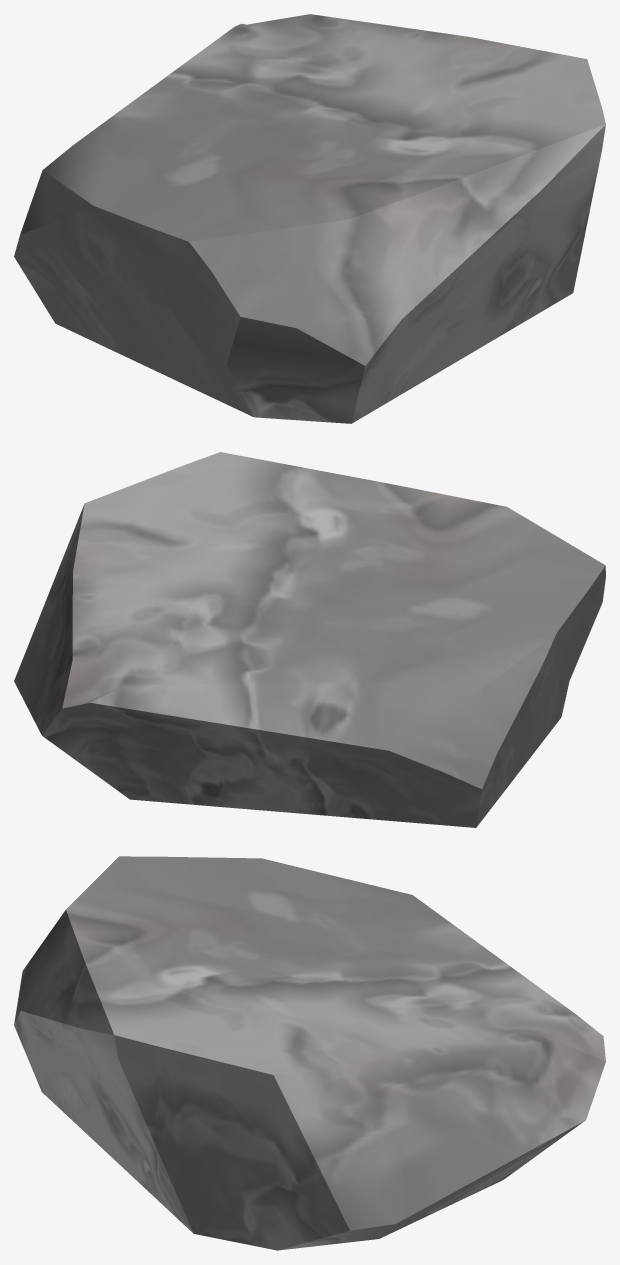
The model's file is pedra_02.fbx.
3 views of the same model, one above another, from view 1: azimuth 30°, elevation 25°; view 2: azimuth 150°, elevation 25°; view 3: azimuth 270°, elevation 25° (orthographic). The views are drawn at different scales.
Parts seen in each view (by area): view 1: Pedra.001; view 2: Pedra.001; view 3: Pedra.001.
Part boxes in pixels (<box>): Pedra.001: <box>14,14,605,423</box>; Pedra.001: <box>14,452,605,827</box>; Pedra.001: <box>14,856,605,1250</box>.
Bounding box in the file's own units: 44.21 × 16.31 × 44.84.
